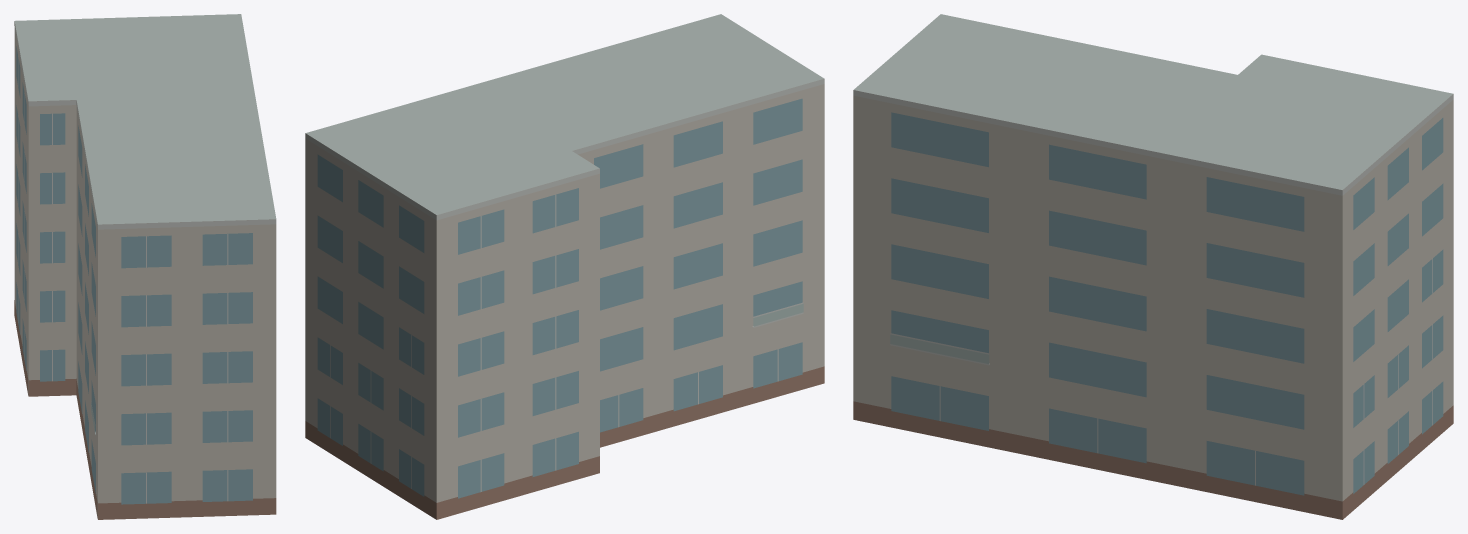
The model's file is survey-upis-33011537.glb.
3 views of the same model, side by side, from view 1: azimuth 30°, elevation 25°; view 2: azimuth 150°, elevation 25°; view 3: azimuth 270°, elevation 25° (orthographic). The views are drawn at different scales.
Visible parts, largest first — view 1: survey-upis-33011537.tmp; view 2: survey-upis-33011537.tmp; view 3: survey-upis-33011537.tmp.
Boxes of the visible parts, bbox=[...] form: survey-upis-33011537.tmp: bbox=[14, 14, 276, 519]; survey-upis-33011537.tmp: bbox=[305, 14, 824, 519]; survey-upis-33011537.tmp: bbox=[853, 14, 1453, 519].
Size of the model in its own units: 16.28 by 14.2 by 23.43.
